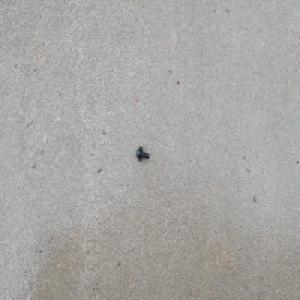BoltWasher: (135, 146, 149, 163)
